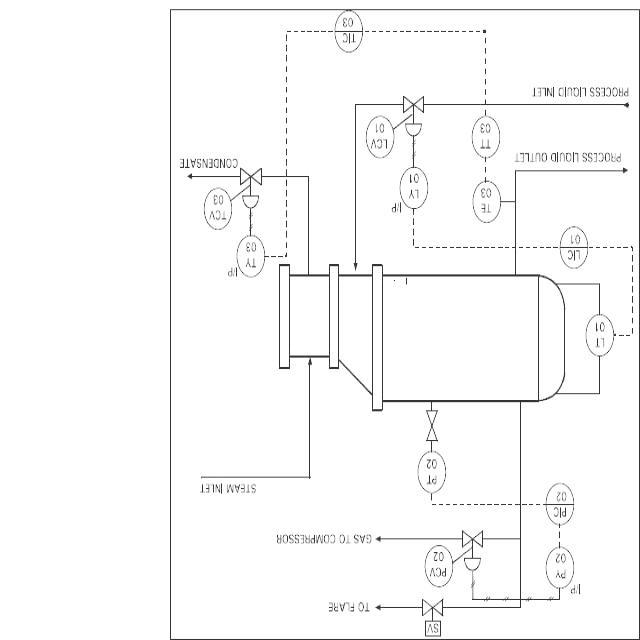Gate Valve: (414, 404, 445, 445)
Pneumatic-Diaphragm Gate Valve: (397, 86, 428, 143), (237, 164, 265, 218), (458, 523, 487, 575)
Solenoid Operated Gate Valve: (414, 594, 448, 640)
